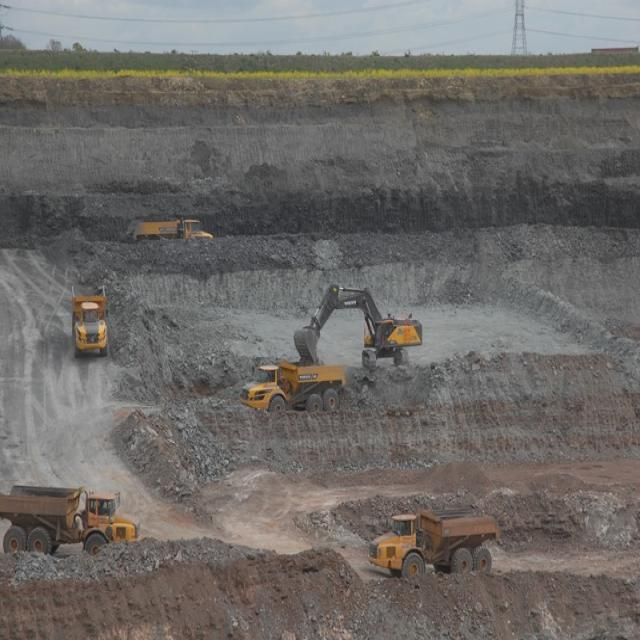dump_truck: (363, 497, 518, 590), (2, 473, 144, 562), (235, 358, 351, 418), (68, 278, 118, 361), (132, 207, 218, 252)
excavator: (292, 277, 424, 367)
